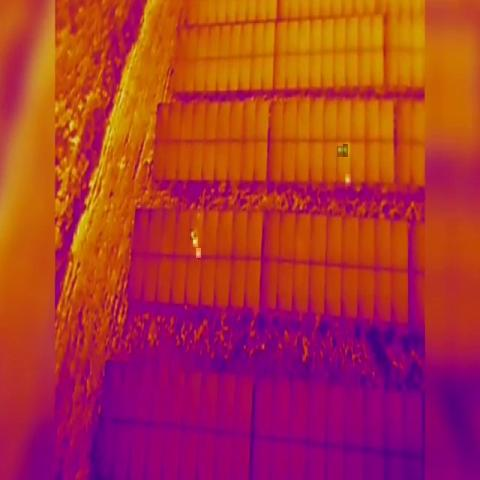fault: (345, 174, 351, 186), (338, 146, 344, 157), (190, 229, 196, 240), (343, 144, 348, 157), (193, 237, 198, 247), (196, 248, 201, 258)
